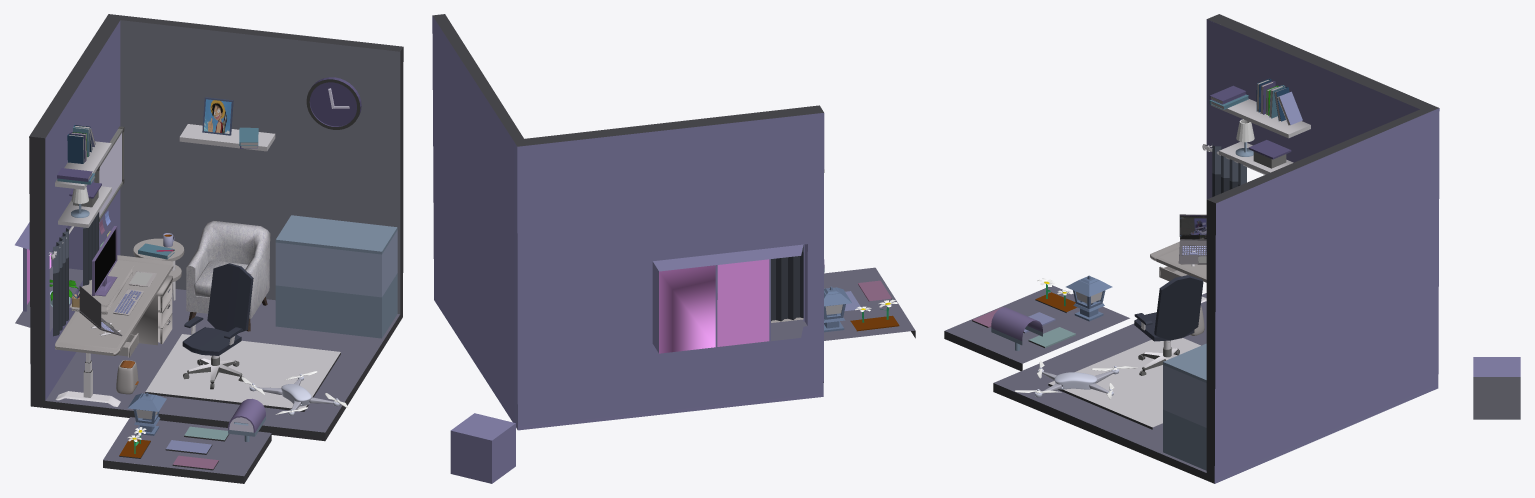
File: myRoomFinale.glb
3 views of the same model, side by side, from view 1: azimuth 30°, elevation 25°; view 2: azimuth 150°, elevation 25°; view 3: azimuth 270°, elevation 25° (orthographic). The views are drawn at different scales.
Visible parts, largest first — view 1: Body, Aquarium, Shelves, Floor Items, Table Stuff, Mini Floor, Desks, Chair, Computer, MailBox, outdoorLamp, FloorSecond (+4 smaller); view 2: Body, Cube, Mini Floor, Shelves, outdoorLamp, Dirt; view 3: Body, Shelves, Floor Items, Mini Floor, Aquarium, Chair, Cube, Computer, outdoorLamp, MailBox, Desks, Drone.
Boxes of the visible parts, x1,y1,x2,y2 form: Body: (15, 14, 403, 441); Aquarium: (275, 215, 397, 338); Shelves: (49, 77, 361, 336); Floor Items: (116, 275, 340, 411); Table Stuff: (49, 221, 270, 331); Mini Floor: (103, 417, 271, 483); Desks: (55, 238, 184, 406); Chair: (182, 263, 253, 365); Computer: (79, 226, 122, 336); MailBox: (228, 398, 265, 441); outdoorLamp: (128, 392, 166, 435); FloorSecond: (165, 440, 212, 454); Body: (432, 14, 824, 430); Cube: (450, 413, 515, 483); Mini Floor: (824, 267, 915, 340); Shelves: (771, 245, 803, 321); outdoorLamp: (824, 286, 851, 332); Dirt: (850, 315, 899, 331); Body: (993, 14, 1439, 483); Shelves: (1202, 78, 1310, 196); Floor Items: (1048, 306, 1204, 429); Mini Floor: (944, 285, 1129, 370); Aquarium: (1163, 343, 1206, 470); Chair: (1134, 275, 1203, 357); Cube: (1473, 357, 1520, 419); Computer: (1178, 214, 1206, 266); outdoorLamp: (1066, 275, 1112, 321); MailBox: (991, 307, 1042, 350); Desks: (1150, 242, 1206, 302); Drone: (1054, 372, 1097, 389).
Size of the model in its own units: 27.74 by 20.09 by 35.03.
Materials: 59 (5 with a texture image).
